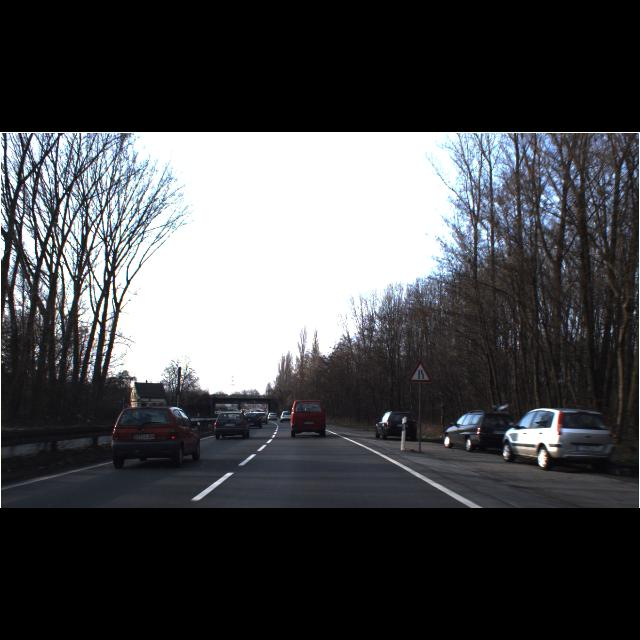danger: (407, 361, 433, 384)
